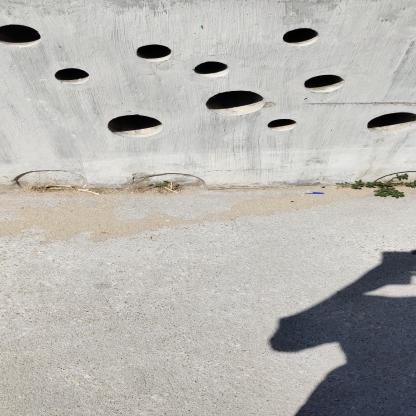plastik: (306, 193, 326, 195)
